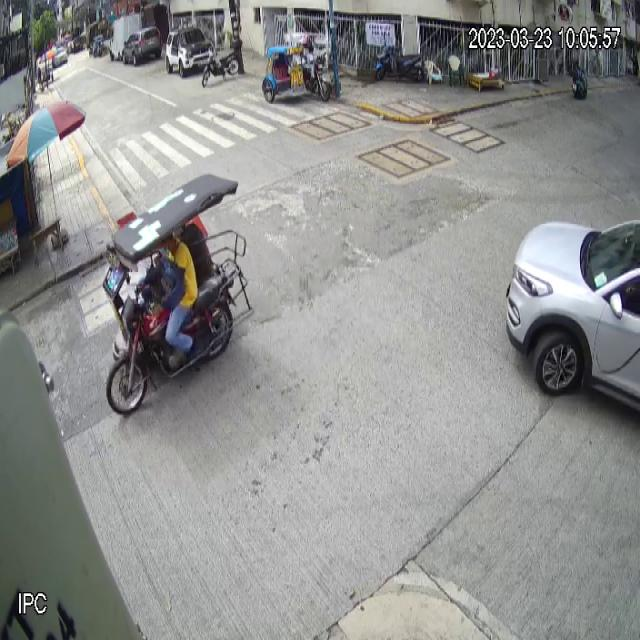Car: (505, 219, 640, 418)
Tricycle: (103, 174, 255, 416), (262, 33, 331, 104)
